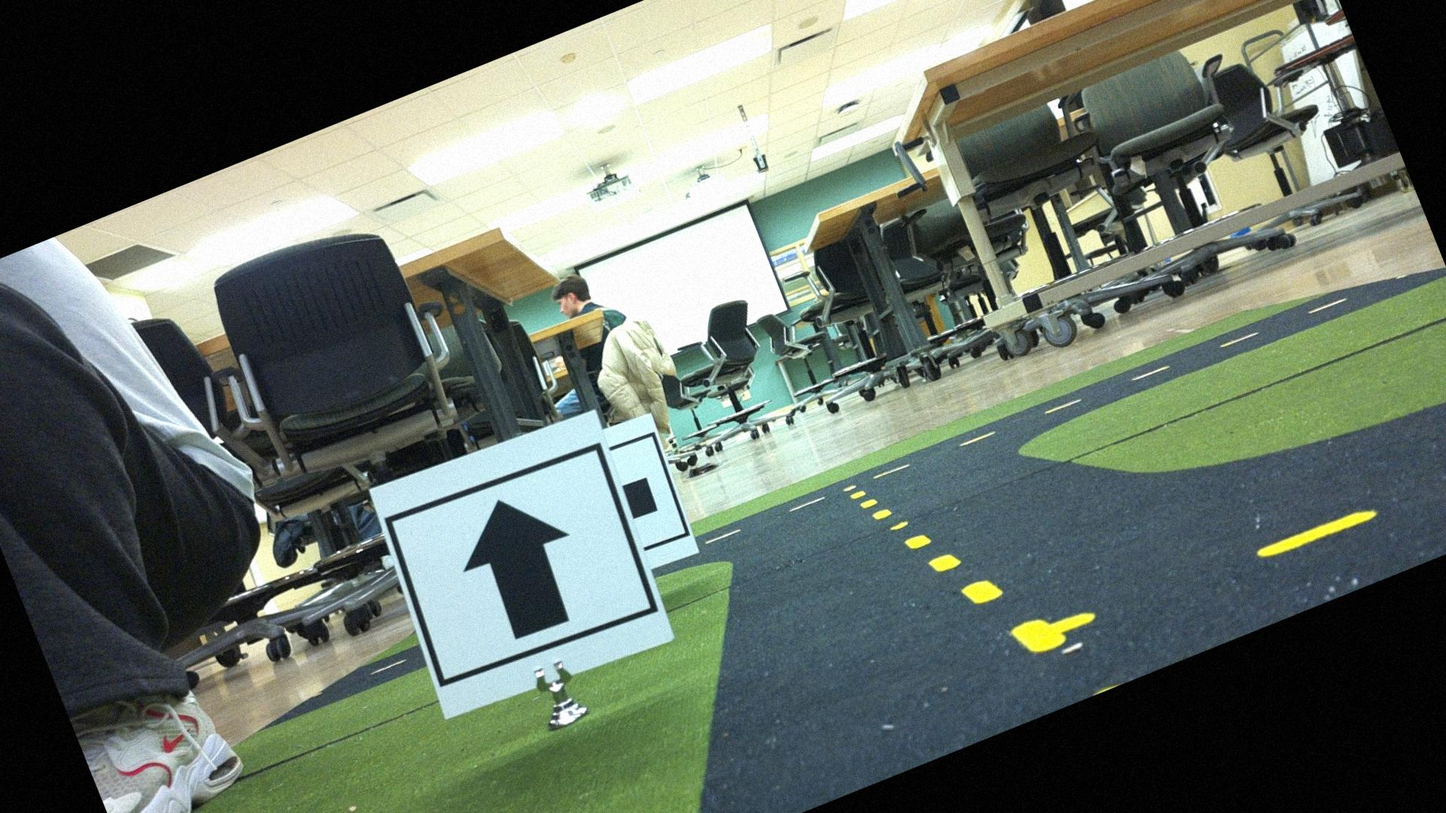gostraight: (366, 417, 668, 717)
yellowline: (843, 431, 1066, 699)
